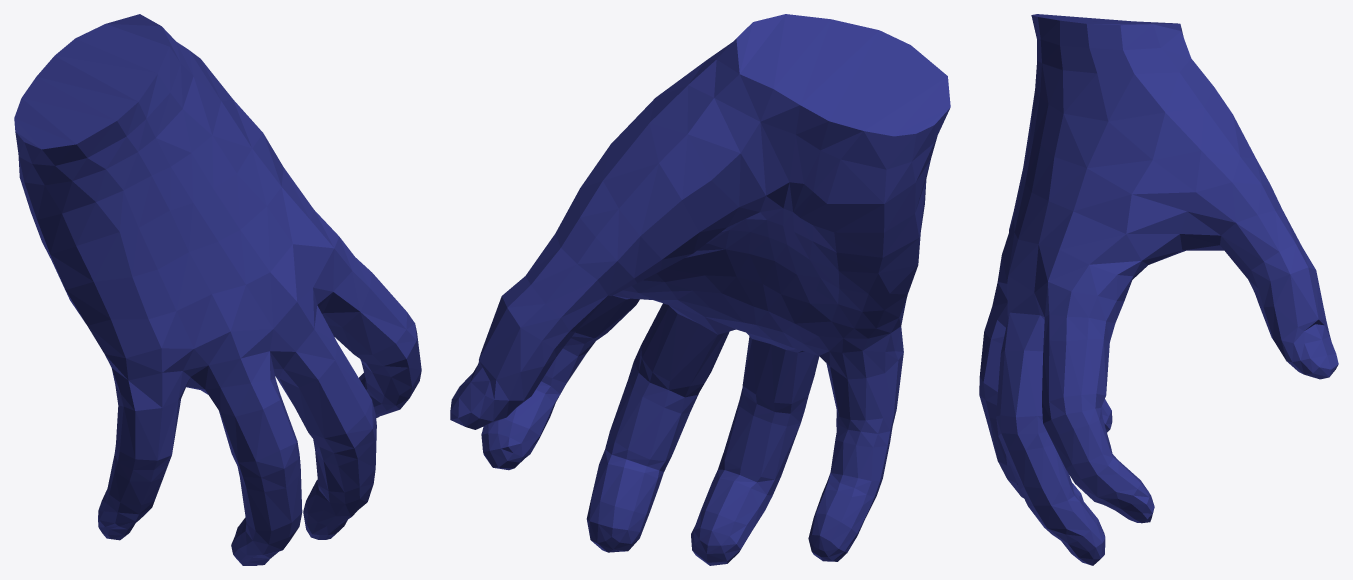
The picture shows the model from 3 angles, left to right: view 1: azimuth 30°, elevation 25°; view 2: azimuth 150°, elevation 25°; view 3: azimuth 270°, elevation 25°; orthographic projection. The views are drawn at different scales.
Size of the model in its own units: 0.1312 by 0.1707 by 0.1169.
